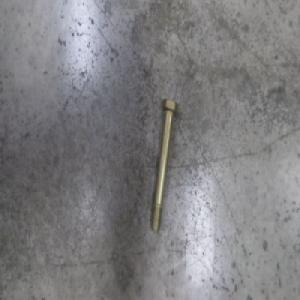Bolt: (149, 95, 179, 236)
